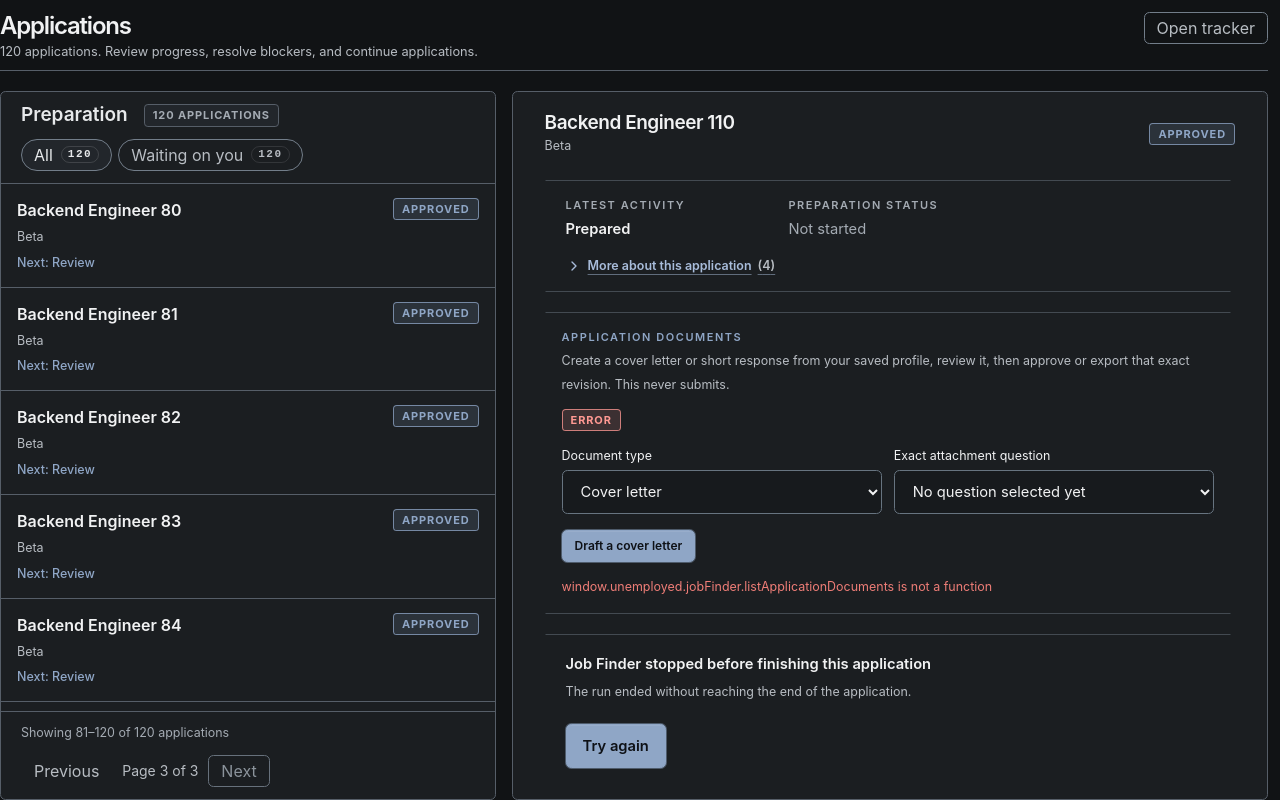
ApplicationsScreen › keeps CRM tracking controls for a matching selection that sits on another pagination page
The width and height of the screenshot is (1280, 800).
Step 1. Click the button "Open tracker" → (1206, 28), box [1144, 12, 1268, 44]
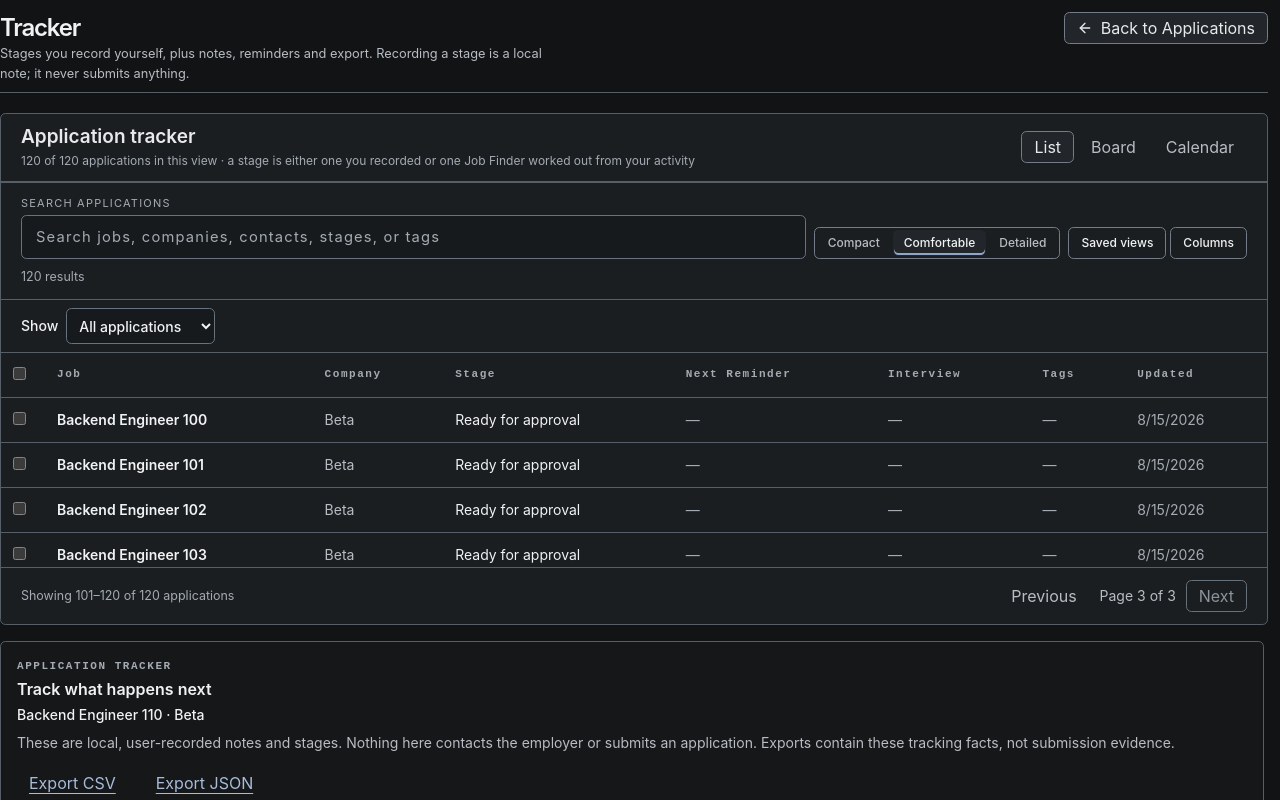
Expected: the text "Page 3 of 3" is shown, [1098, 586, 1178, 606]
Expected: the text "Backend Engineer 110 · Beta" is shown, [17, 706, 204, 723]
Step 2. Click the button with aria-label "Previous page" → (1044, 596), box [998, 580, 1090, 612]
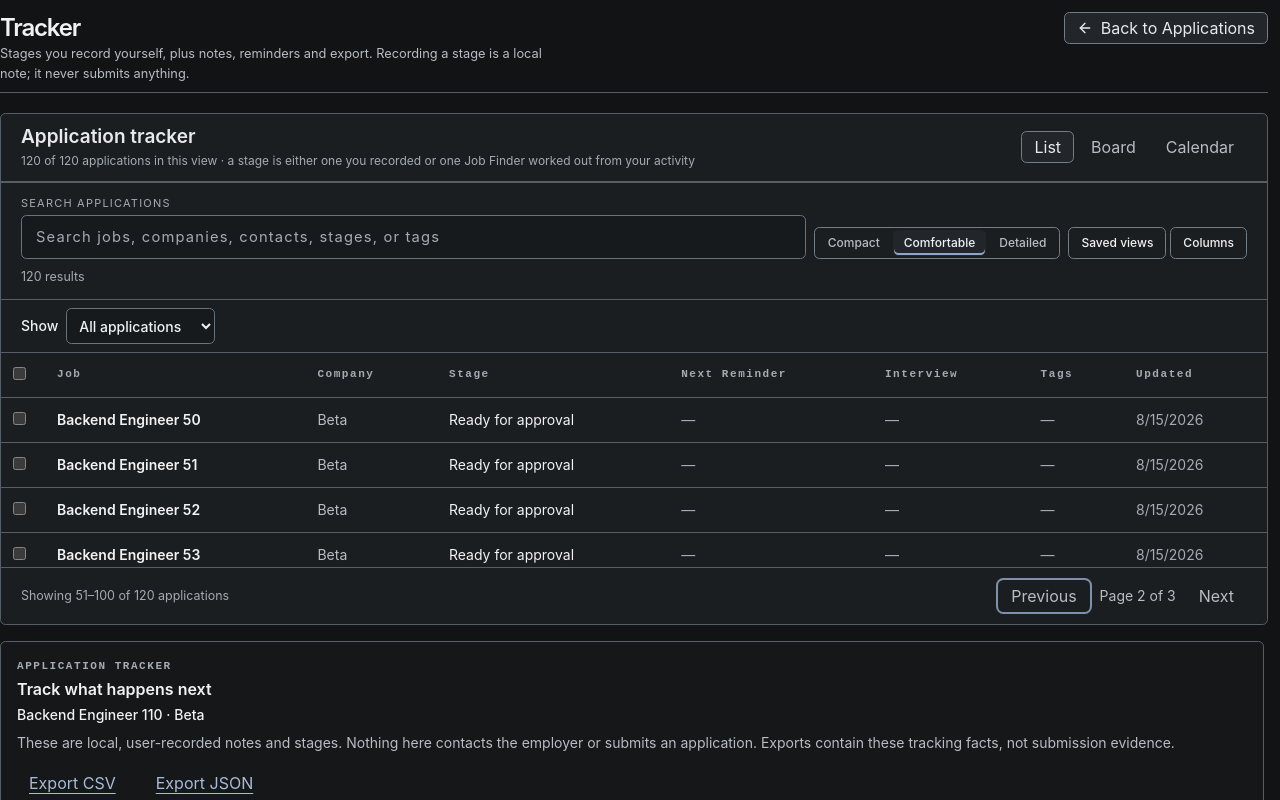
Step 3. Click the button with aria-label "Previous page" → (1044, 596), box [998, 580, 1090, 612]
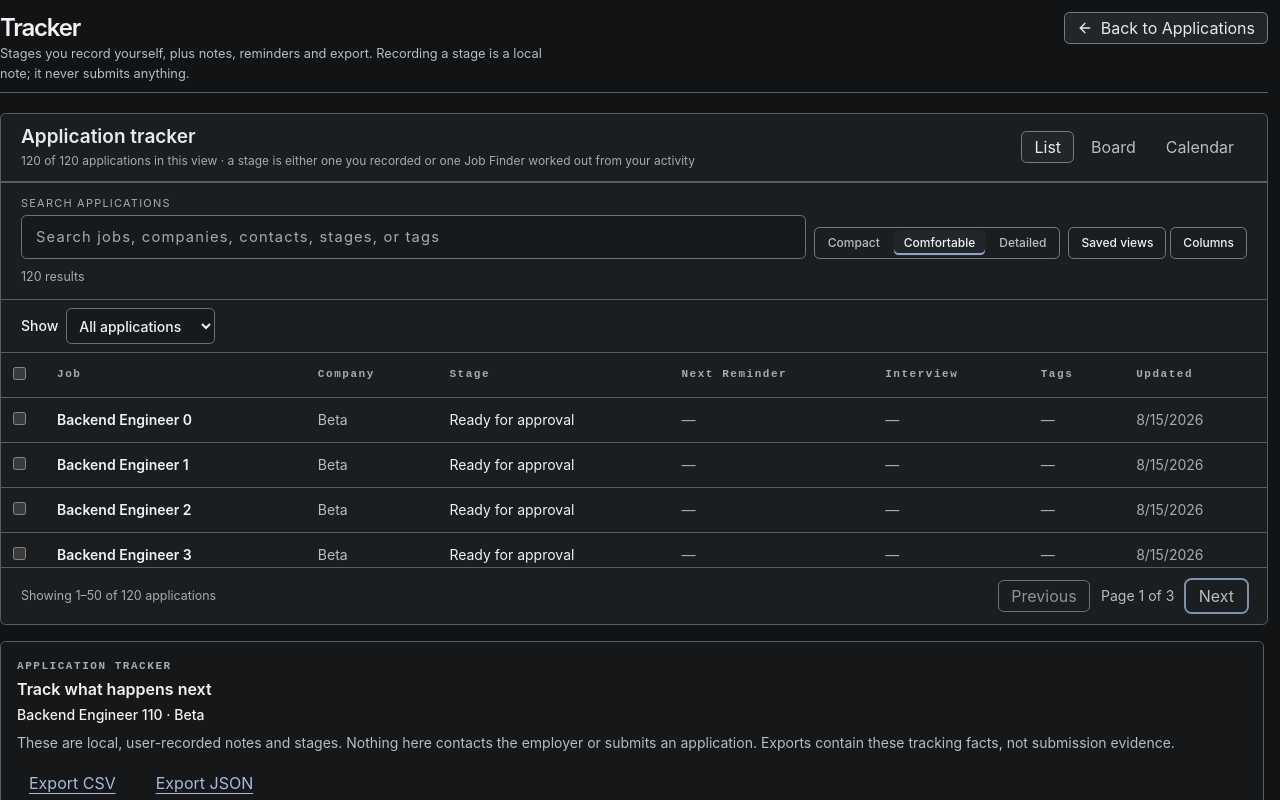
Expected: the text "Backend Engineer 110 · Beta" is shown, [17, 706, 204, 723]
Expected: the text "Page 1 of 3" is shown, [1098, 586, 1178, 606]
Expected: the text "Showing 1–50 of 120 applications" is shown, [21, 587, 216, 605]
